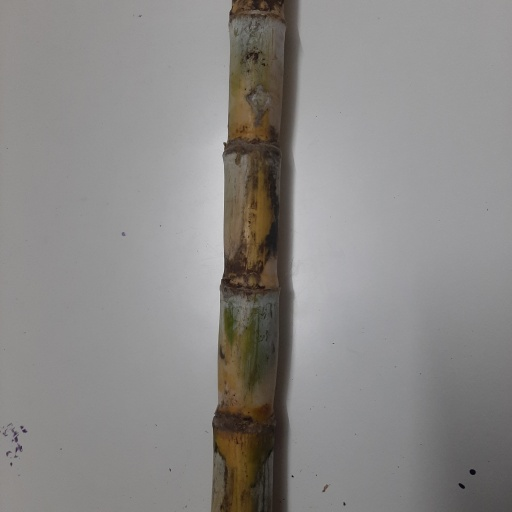Bud: (243, 270, 263, 289)
